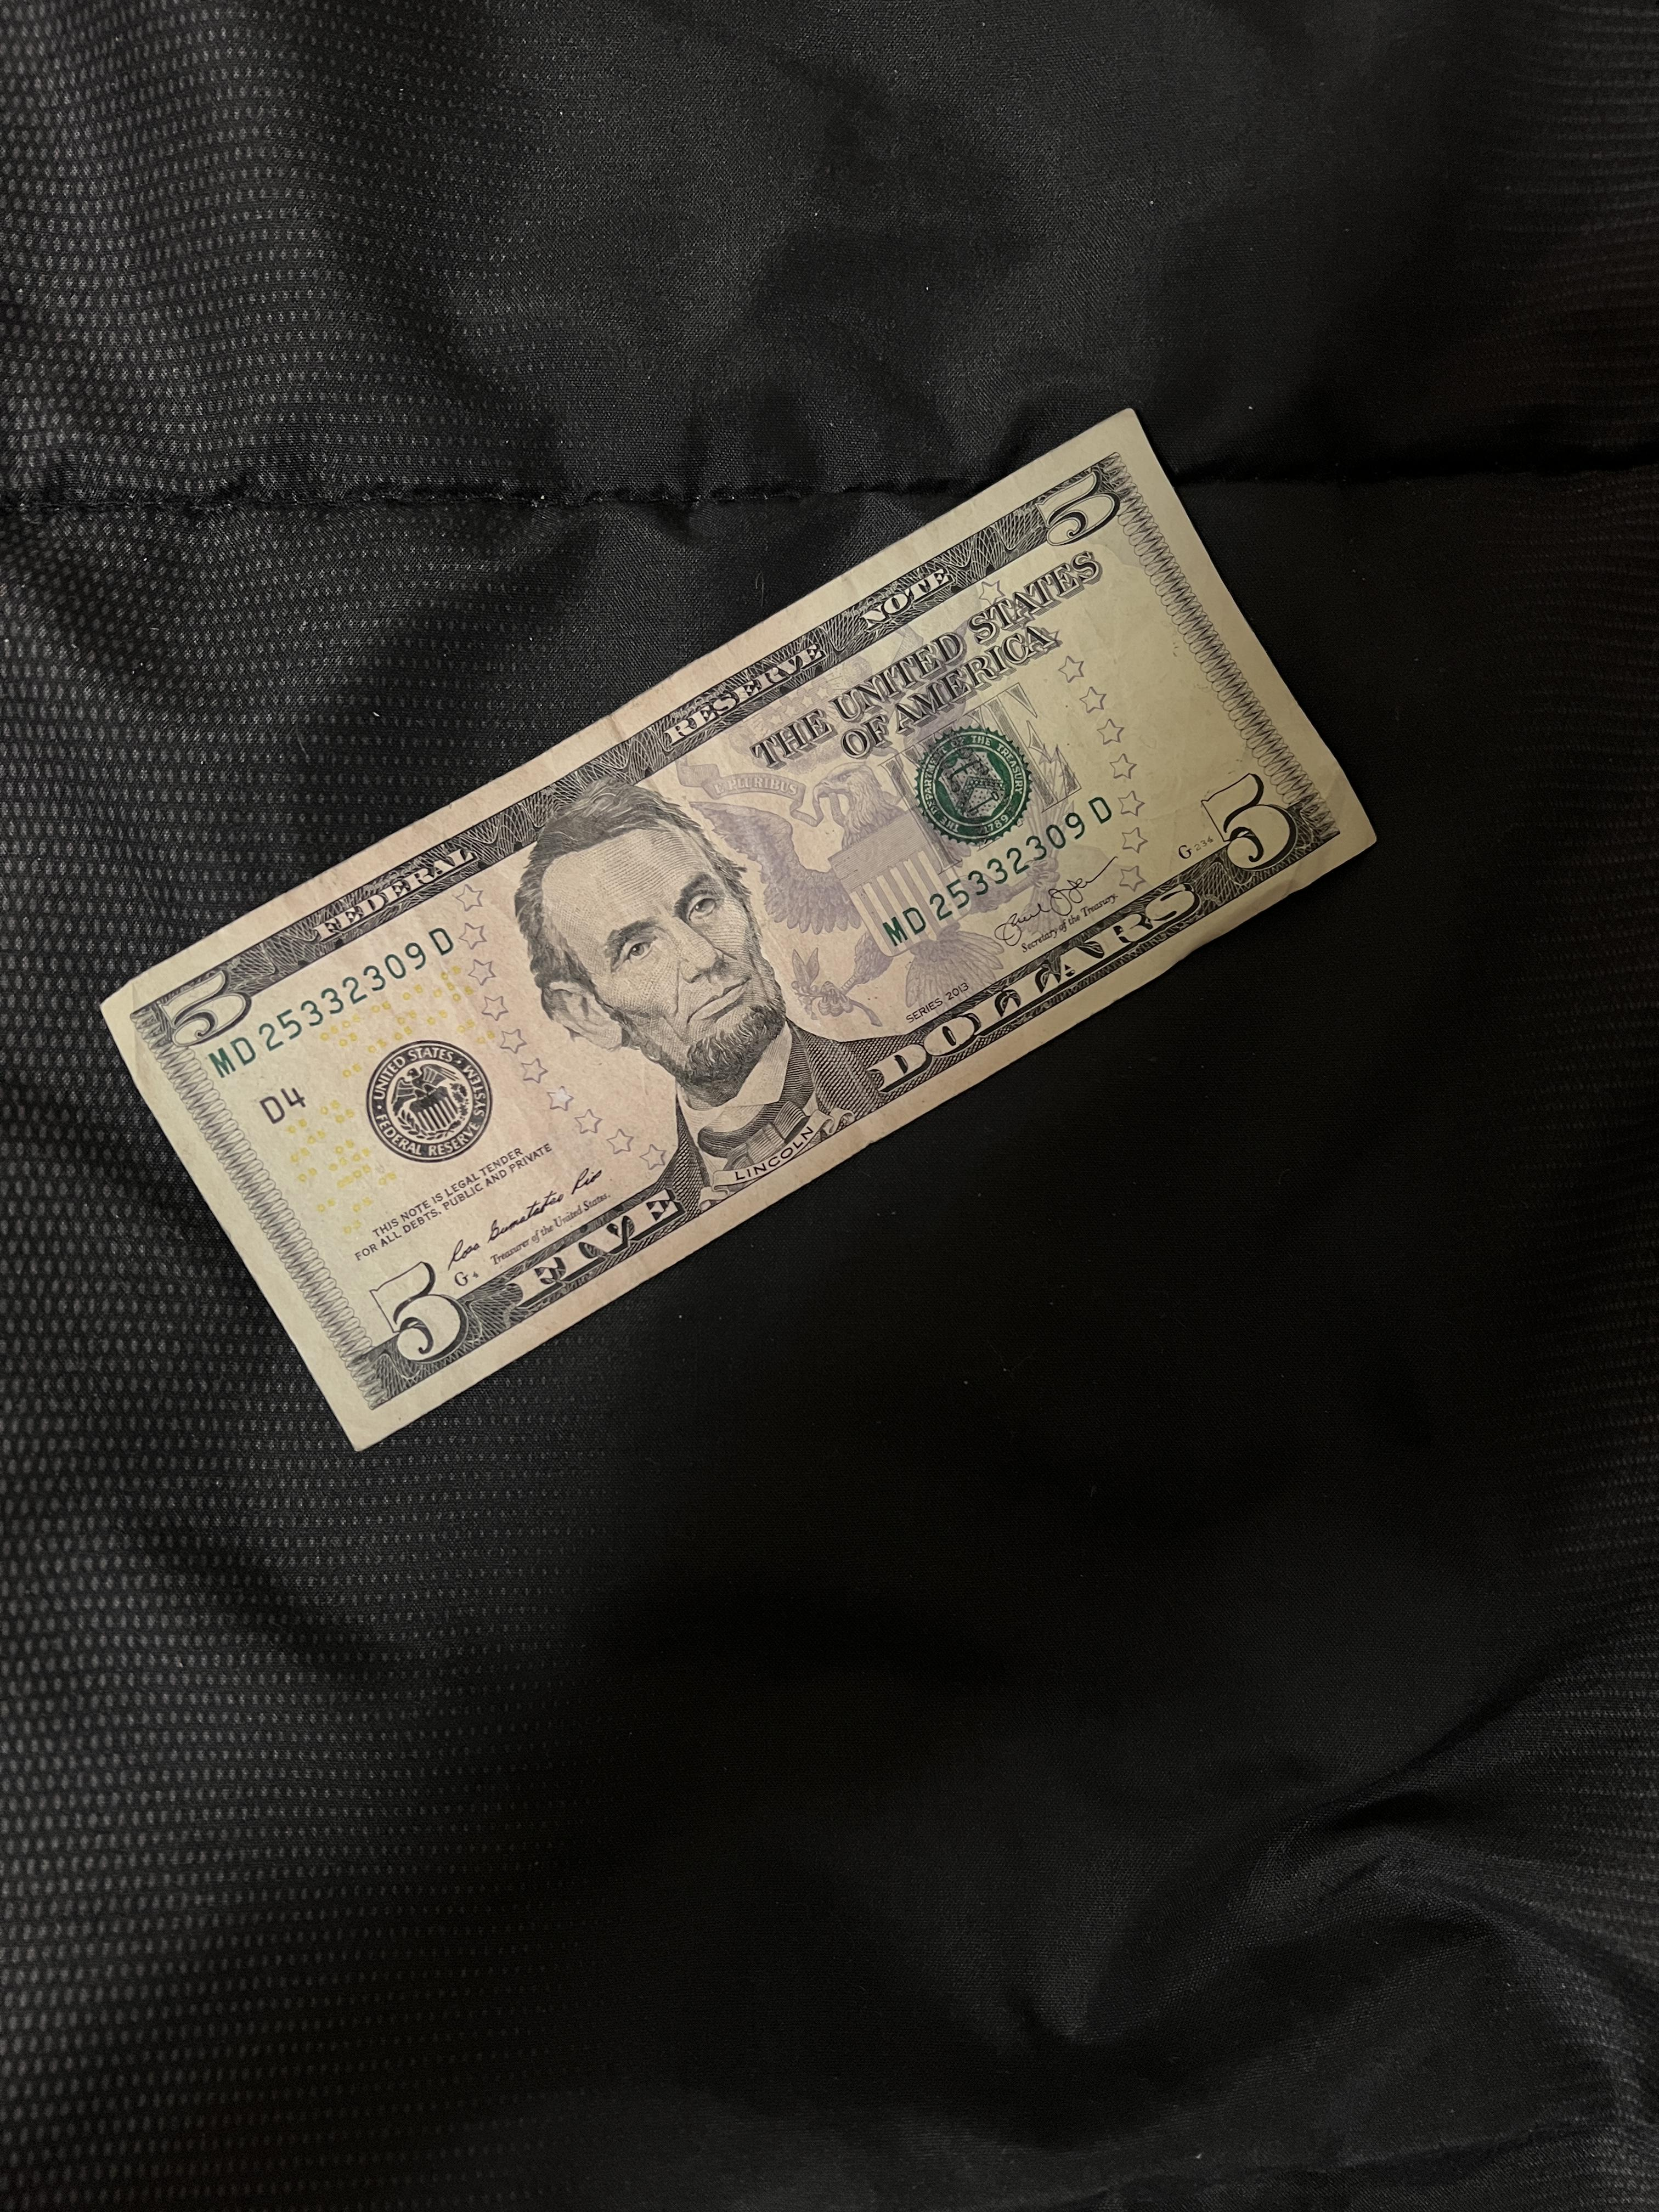FiveBill: (105, 404, 1405, 1430)
